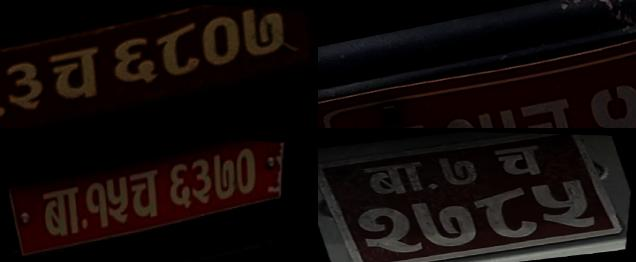0: (194, 4, 250, 73), (231, 139, 264, 195)
1: (79, 174, 117, 238), (433, 105, 504, 128)
2: (344, 200, 433, 261)
3: (0, 50, 53, 121), (186, 150, 220, 206)
4: (576, 66, 636, 128)
5: (522, 172, 610, 235), (473, 97, 543, 128), (102, 170, 139, 228)
6: (103, 26, 164, 91), (163, 155, 199, 215)
7: (405, 192, 491, 252), (235, 3, 295, 61), (431, 150, 491, 190), (207, 145, 242, 201)
8: (462, 182, 551, 244), (150, 15, 210, 82)
ba: (355, 157, 438, 202), (38, 180, 92, 248)
cha: (41, 37, 113, 110), (512, 82, 596, 128), (126, 162, 171, 227), (486, 140, 554, 180)
